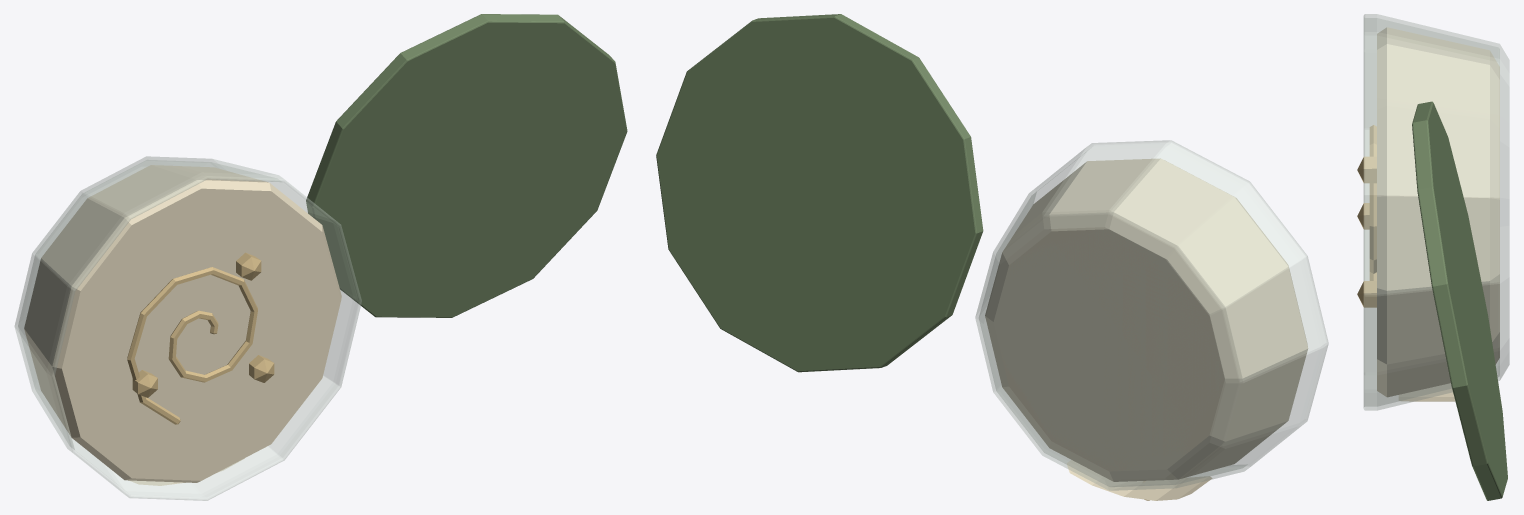
The model's file is hummus.glb.
3 renders of one model, left to right at view 1: azimuth 30°, elevation 25°; view 2: azimuth 150°, elevation 25°; view 3: azimuth 270°, elevation 25°, orthographic. The views are drawn at different scales.
Visible parts, largest first — view 1: hummus; view 2: hummus; view 3: hummus.
Part boxes in pixels (x1=…): hummus: x1=14, y1=14, x2=627, y2=500; hummus: x1=656, y1=14, x2=1328, y2=500; hummus: x1=1357, y1=14, x2=1509, y2=500.
Size of the model in its own units: 0.238 by 0.1452 by 0.046.
